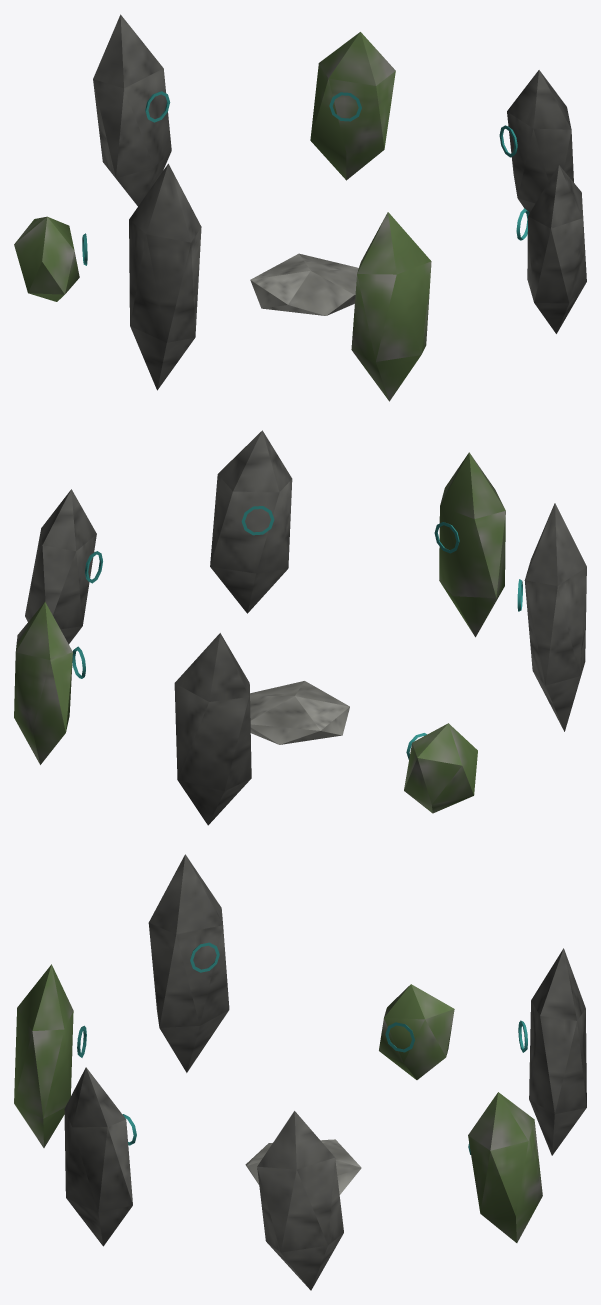
File: SM_Landmark_StandingStones_LOD1.fbx
3 renders of one model, top to bottom at view 1: azimuth 30°, elevation 25°; view 2: azimuth 150°, elevation 25°; view 3: azimuth 270°, elevation 25°, orthographic.
Visible parts, largest first — view 1: SM_Landmark_StandingStones_LOD1; view 2: SM_Landmark_StandingStones_LOD1; view 3: SM_Landmark_StandingStones_LOD1.
Boxes of the visible parts, bbox=[...] form: SM_Landmark_StandingStones_LOD1: bbox=[14, 14, 586, 401]; SM_Landmark_StandingStones_LOD1: bbox=[14, 430, 586, 825]; SM_Landmark_StandingStones_LOD1: bbox=[14, 854, 586, 1290].
Size of the model in its own units: 17.01 by 7.54 by 17.45.
1 material, 1 textured.
